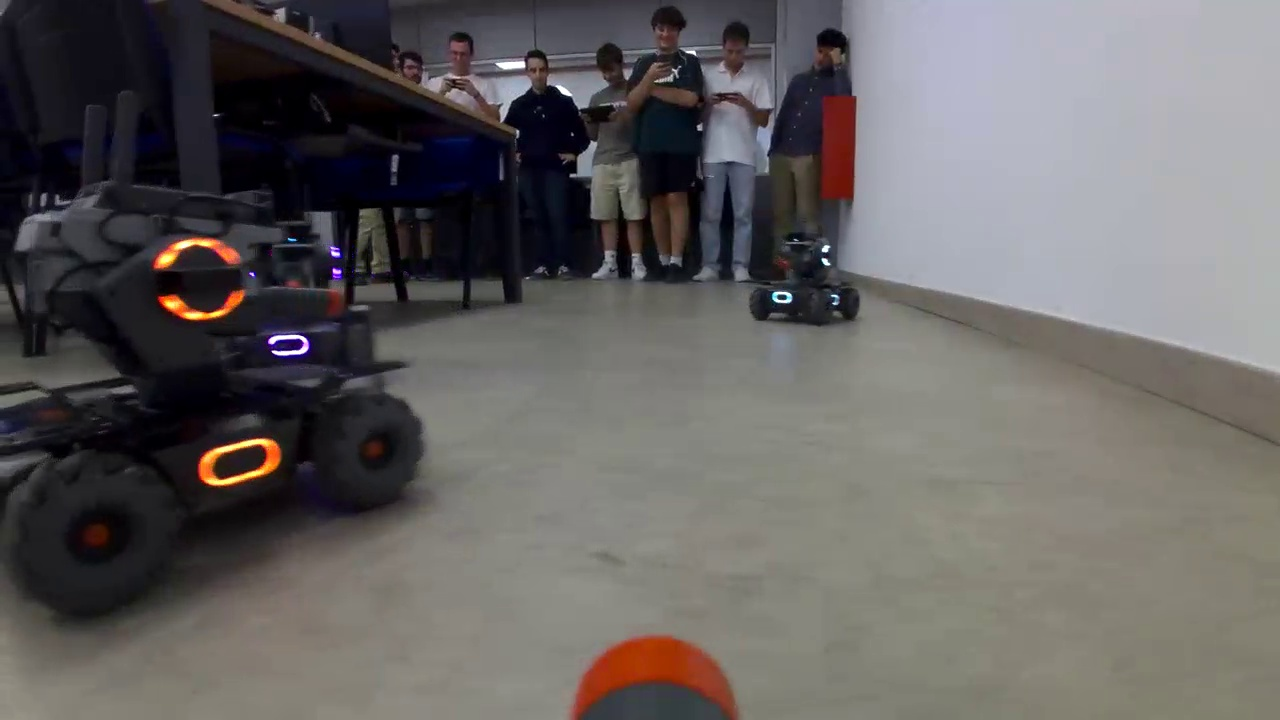robot: (10, 175, 470, 650), (745, 222, 870, 327)
